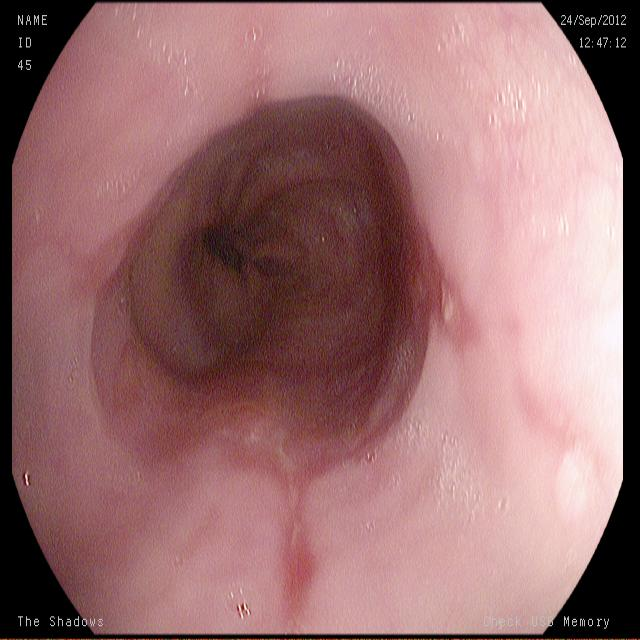esophagitis: (53, 61, 488, 627)
